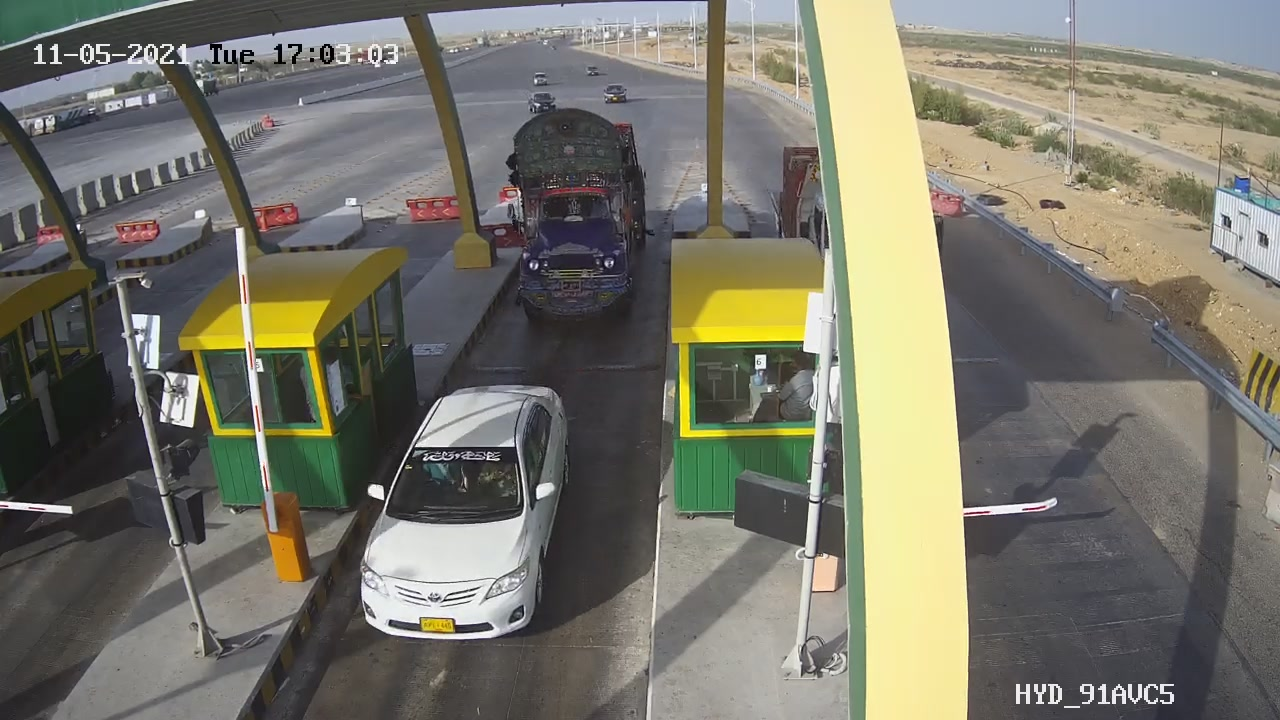F5: (479, 95, 677, 353)
